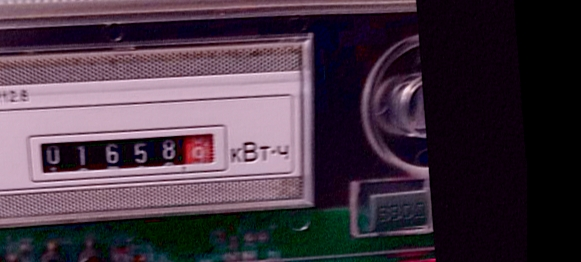0: (45, 141, 64, 163)
1: (75, 140, 91, 165)
5: (133, 138, 151, 163)
6: (104, 139, 124, 164)
8: (161, 136, 179, 159)
9: (190, 141, 208, 164)
screen: (25, 115, 235, 188)
